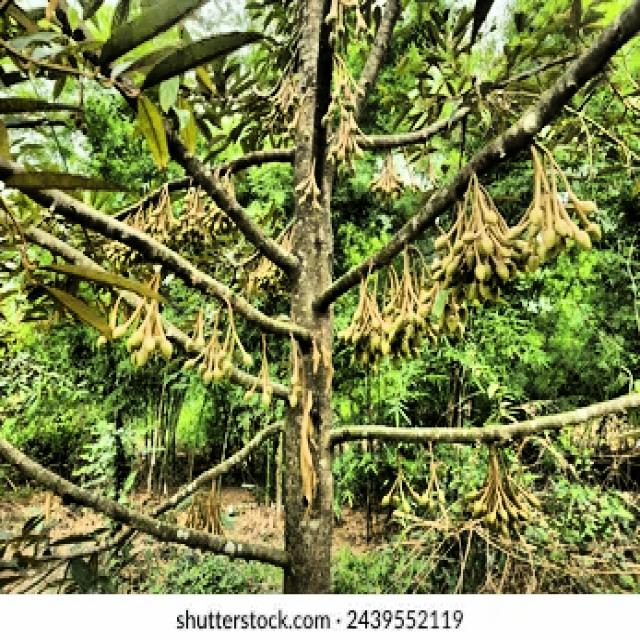arvore: (252, 0, 351, 596)
